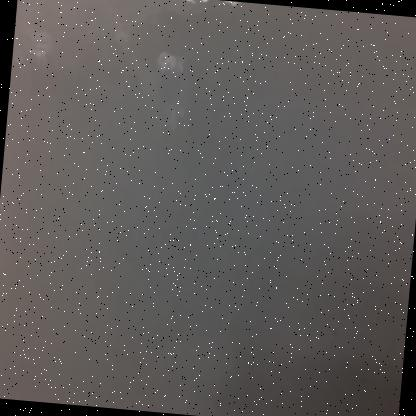Nocrack: (4, 7, 415, 414)
